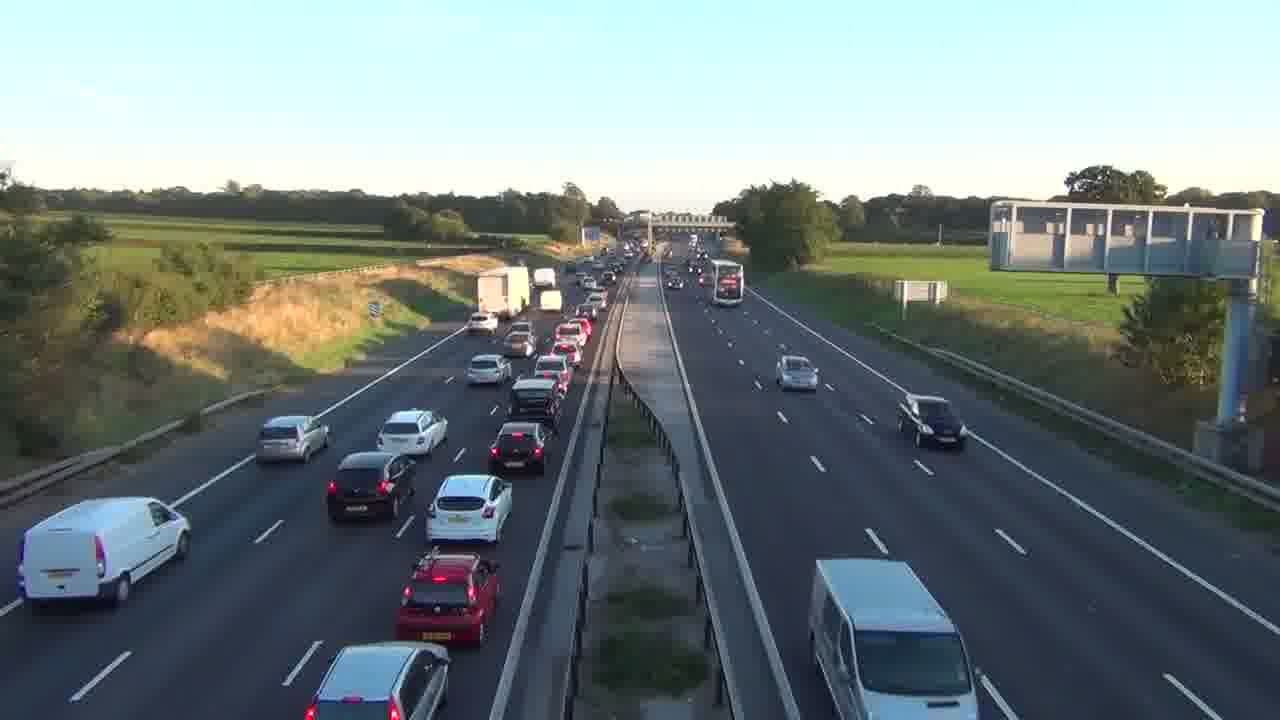bus: (807, 556, 980, 718), (712, 259, 745, 308)
car: (303, 640, 452, 719), (393, 552, 501, 647), (325, 450, 418, 523), (424, 473, 514, 545), (255, 414, 332, 464), (374, 408, 449, 459), (488, 420, 547, 474), (510, 376, 559, 421), (775, 354, 820, 392), (464, 352, 512, 387), (532, 354, 568, 378)
truck: (16, 495, 192, 613), (896, 392, 965, 449)
